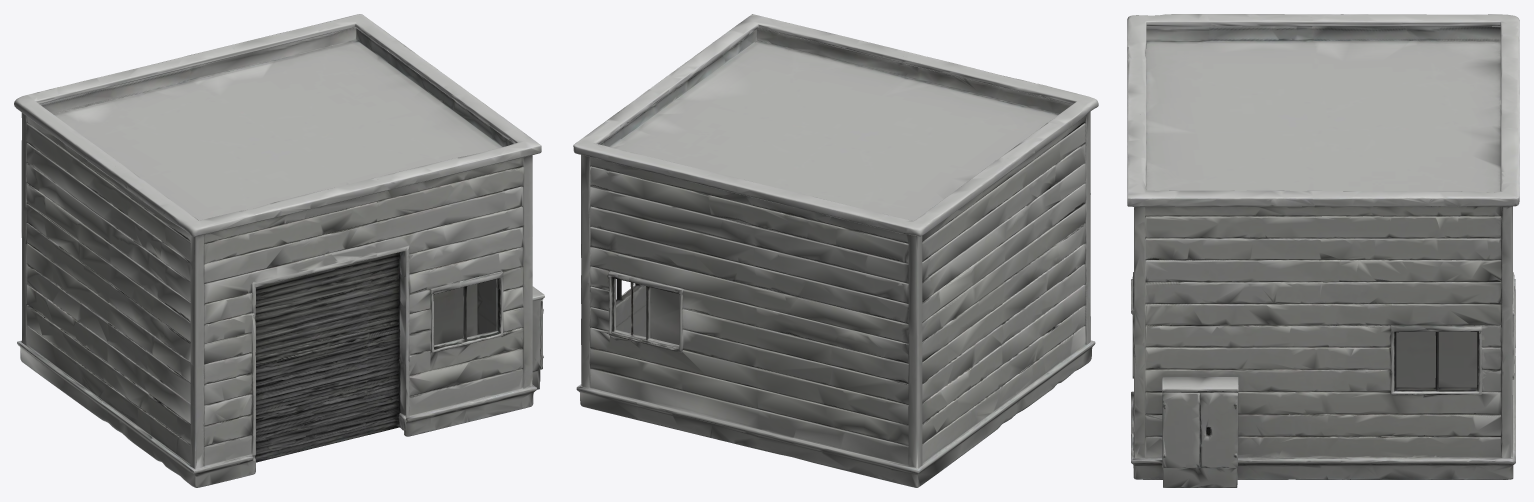
File: batiment.glb
3 renders of one model, left to right at view 1: azimuth 30°, elevation 25°; view 2: azimuth 150°, elevation 25°; view 3: azimuth 270°, elevation 25°, orthographic. The views are drawn at different scales.
Parts seen in each view (by area): view 1: tripo_node_23682dcd-d950-4d64-9d35-6aa0e951b9c1; view 2: tripo_node_23682dcd-d950-4d64-9d35-6aa0e951b9c1; view 3: tripo_node_23682dcd-d950-4d64-9d35-6aa0e951b9c1.
Part boxes in pixels (<box>): tripo_node_23682dcd-d950-4d64-9d35-6aa0e951b9c1: <box>14,14,544,487</box>; tripo_node_23682dcd-d950-4d64-9d35-6aa0e951b9c1: <box>573,14,1098,487</box>; tripo_node_23682dcd-d950-4d64-9d35-6aa0e951b9c1: <box>1127,14,1519,487</box>.
Size of the model in its own units: 0.9804 by 0.667 by 0.8335.
1 material, 1 textured.
